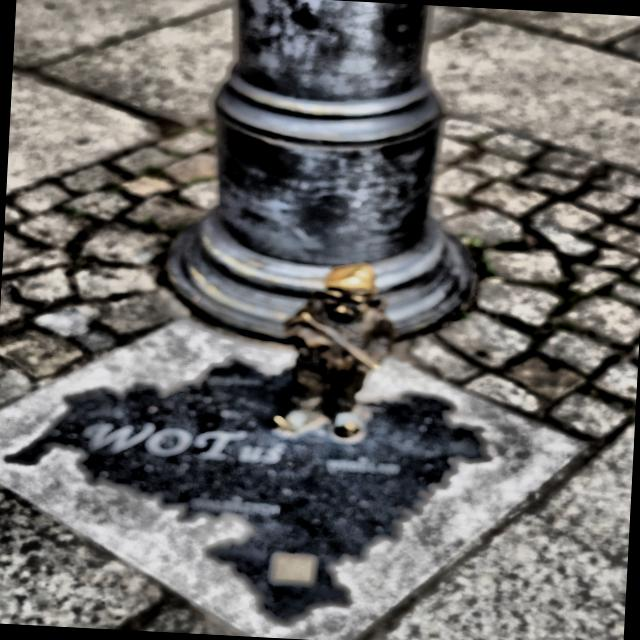WOTus: (273, 263, 396, 439)
